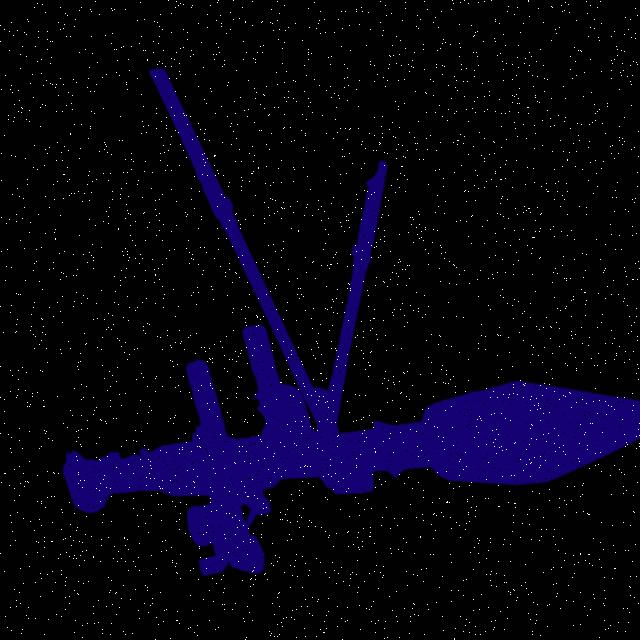grenade: (373, 320, 640, 520)
rocket: (1, 21, 501, 617)
